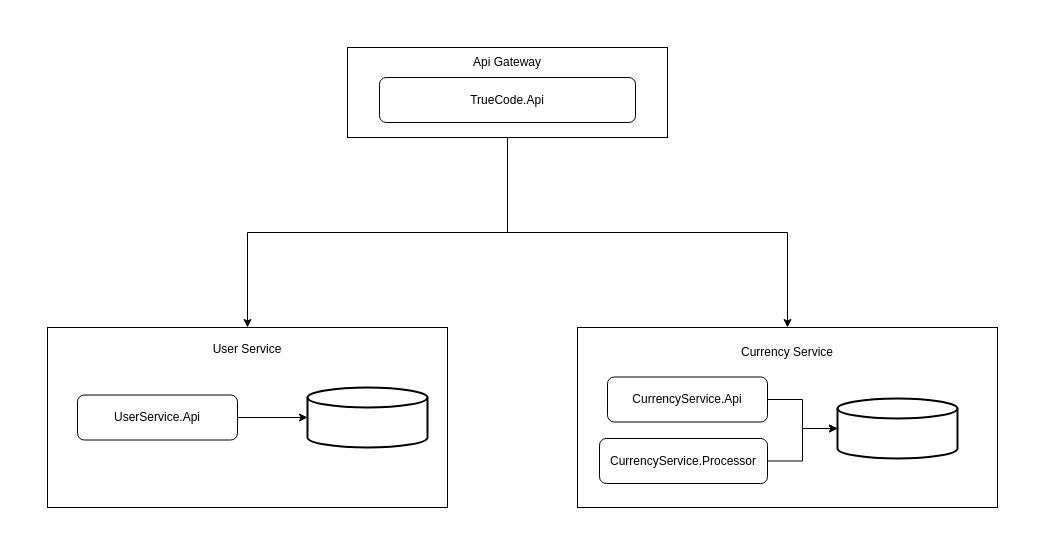
Some shapes in this 1045 by 555 pixel diagram are drawn without their labels. Here are the shapes that lost their labels. From the top down, the box of each, then its label:
(306, 386, 428, 448): UserDB
(836, 397, 958, 459): CurrencyDB
